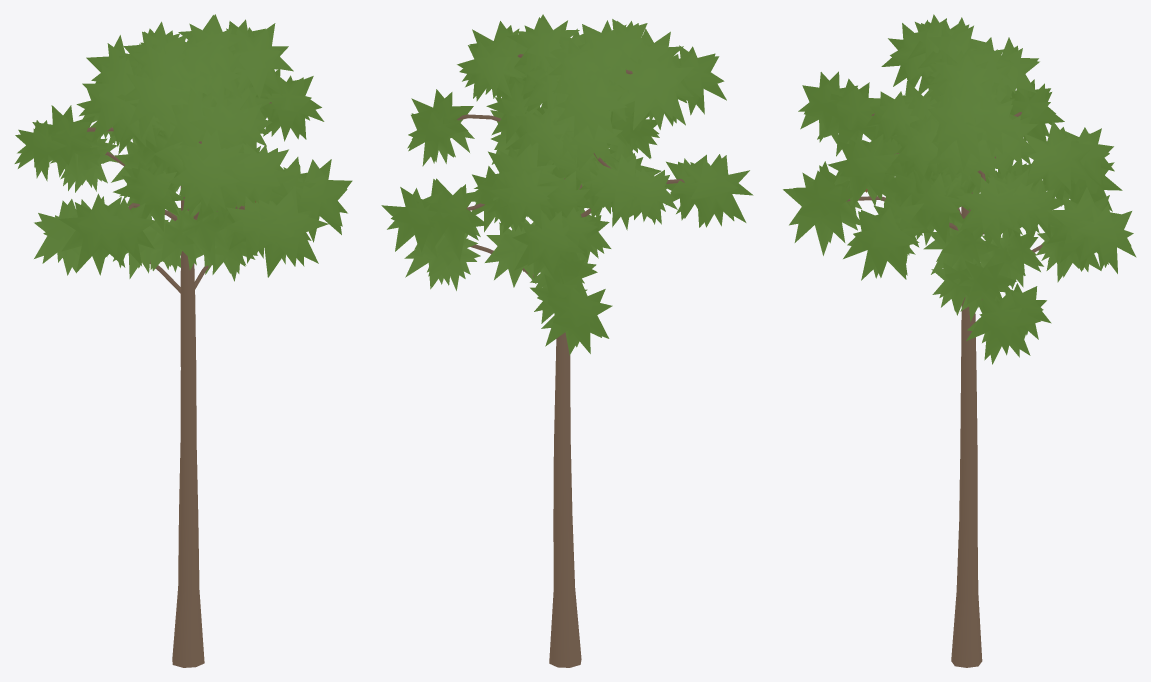
The model's file is Blender_LoblollyPine_2.glb.
3 views of the same model, side by side, from view 1: azimuth 30°, elevation 25°; view 2: azimuth 150°, elevation 25°; view 3: azimuth 270°, elevation 25° (orthographic). The views are drawn at different scales.
Visible parts, largest first — view 1: Blender_LoblollyPine_2; view 2: Blender_LoblollyPine_2; view 3: Blender_LoblollyPine_2.
Part boxes in pixels (box(x1,y1,x2,y2)): Blender_LoblollyPine_2: box(14, 14, 352, 667); Blender_LoblollyPine_2: box(381, 14, 753, 667); Blender_LoblollyPine_2: box(783, 14, 1136, 667).
Bounding box in the file's own units: 11.87 × 24.75 × 12.76.
